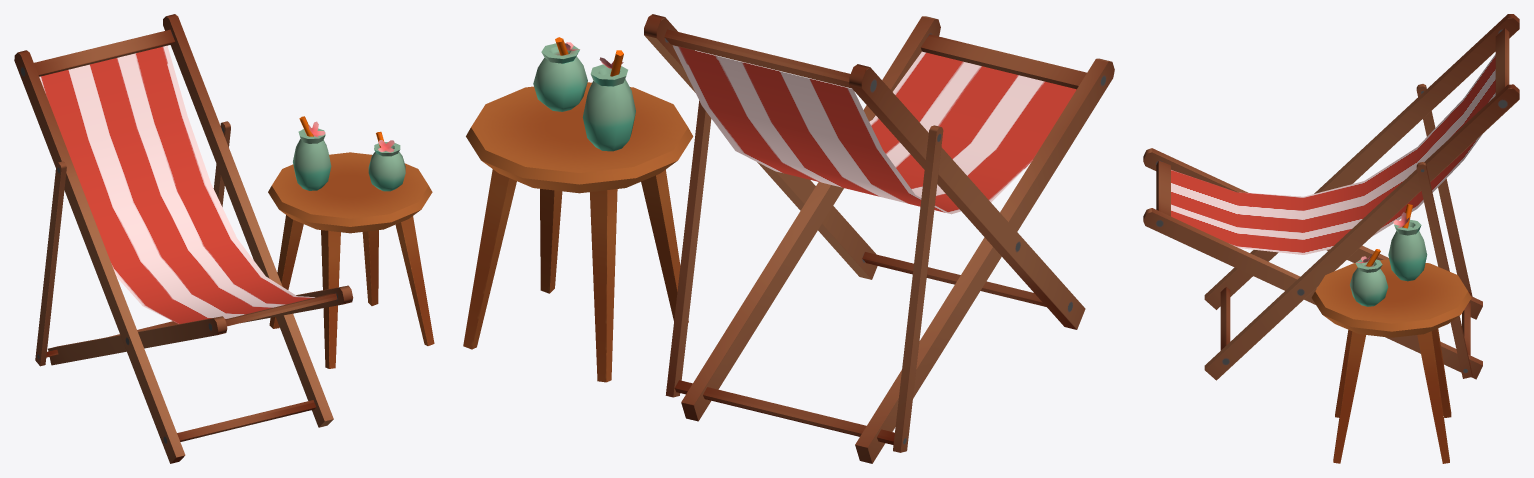
The model's file is beachchair 1.fbx.
3 views of the same model, side by side, from view 1: azimuth 30°, elevation 25°; view 2: azimuth 150°, elevation 25°; view 3: azimuth 270°, elevation 25° (orthographic). The views are drawn at different scales.
Parts seen in each view (by area): view 1: beachchair; view 2: beachchair; view 3: beachchair.
Boxes of the visible parts, left/top/right/bottom form: beachchair: left=14, top=14, right=434, bottom=463; beachchair: left=463, top=14, right=1114, bottom=463; beachchair: left=1143, top=14, right=1519, bottom=463.
Size of the model in its own units: 1.5 by 1.26 by 1.45.
